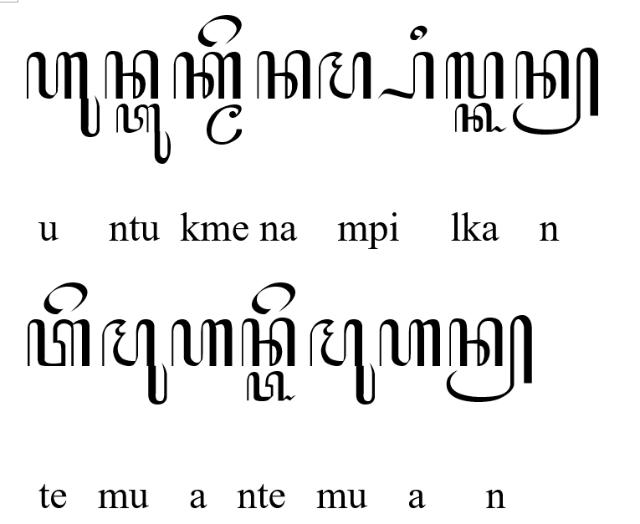-n: (512, 47, 600, 136), (446, 314, 534, 402)
_k: (454, 102, 508, 134)
_m: (205, 103, 242, 145)
_p: (378, 50, 434, 100)
_t: (246, 370, 296, 402)
e: (196, 14, 242, 48), (250, 281, 296, 315), (44, 282, 88, 316)
h: (170, 318, 234, 368), (378, 318, 442, 368)
hu: (26, 49, 100, 136)
i: (408, 24, 428, 41)
k: (173, 50, 243, 100)
l: (444, 50, 504, 100)
m: (318, 52, 372, 100)
mu: (308, 318, 376, 406), (102, 318, 168, 406)
n: (240, 318, 298, 368), (104, 49, 160, 100), (255, 50, 312, 100)
t: (27, 318, 92, 368)
tu: (115, 103, 171, 165)
